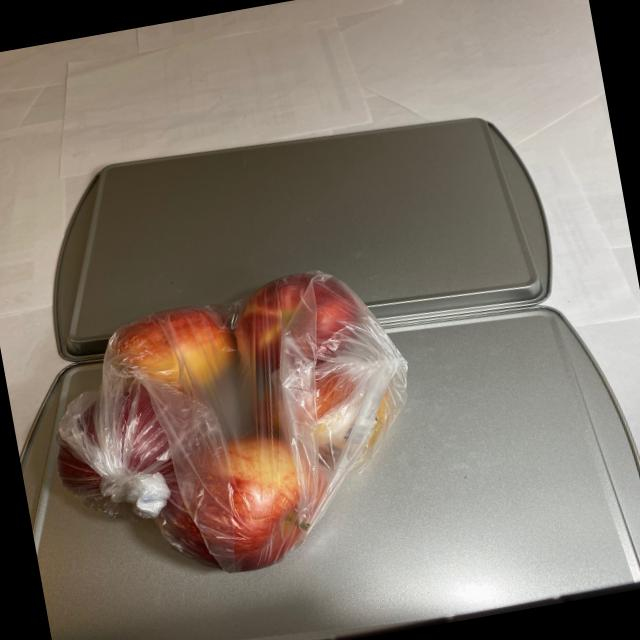apple: (28, 257, 438, 610)
